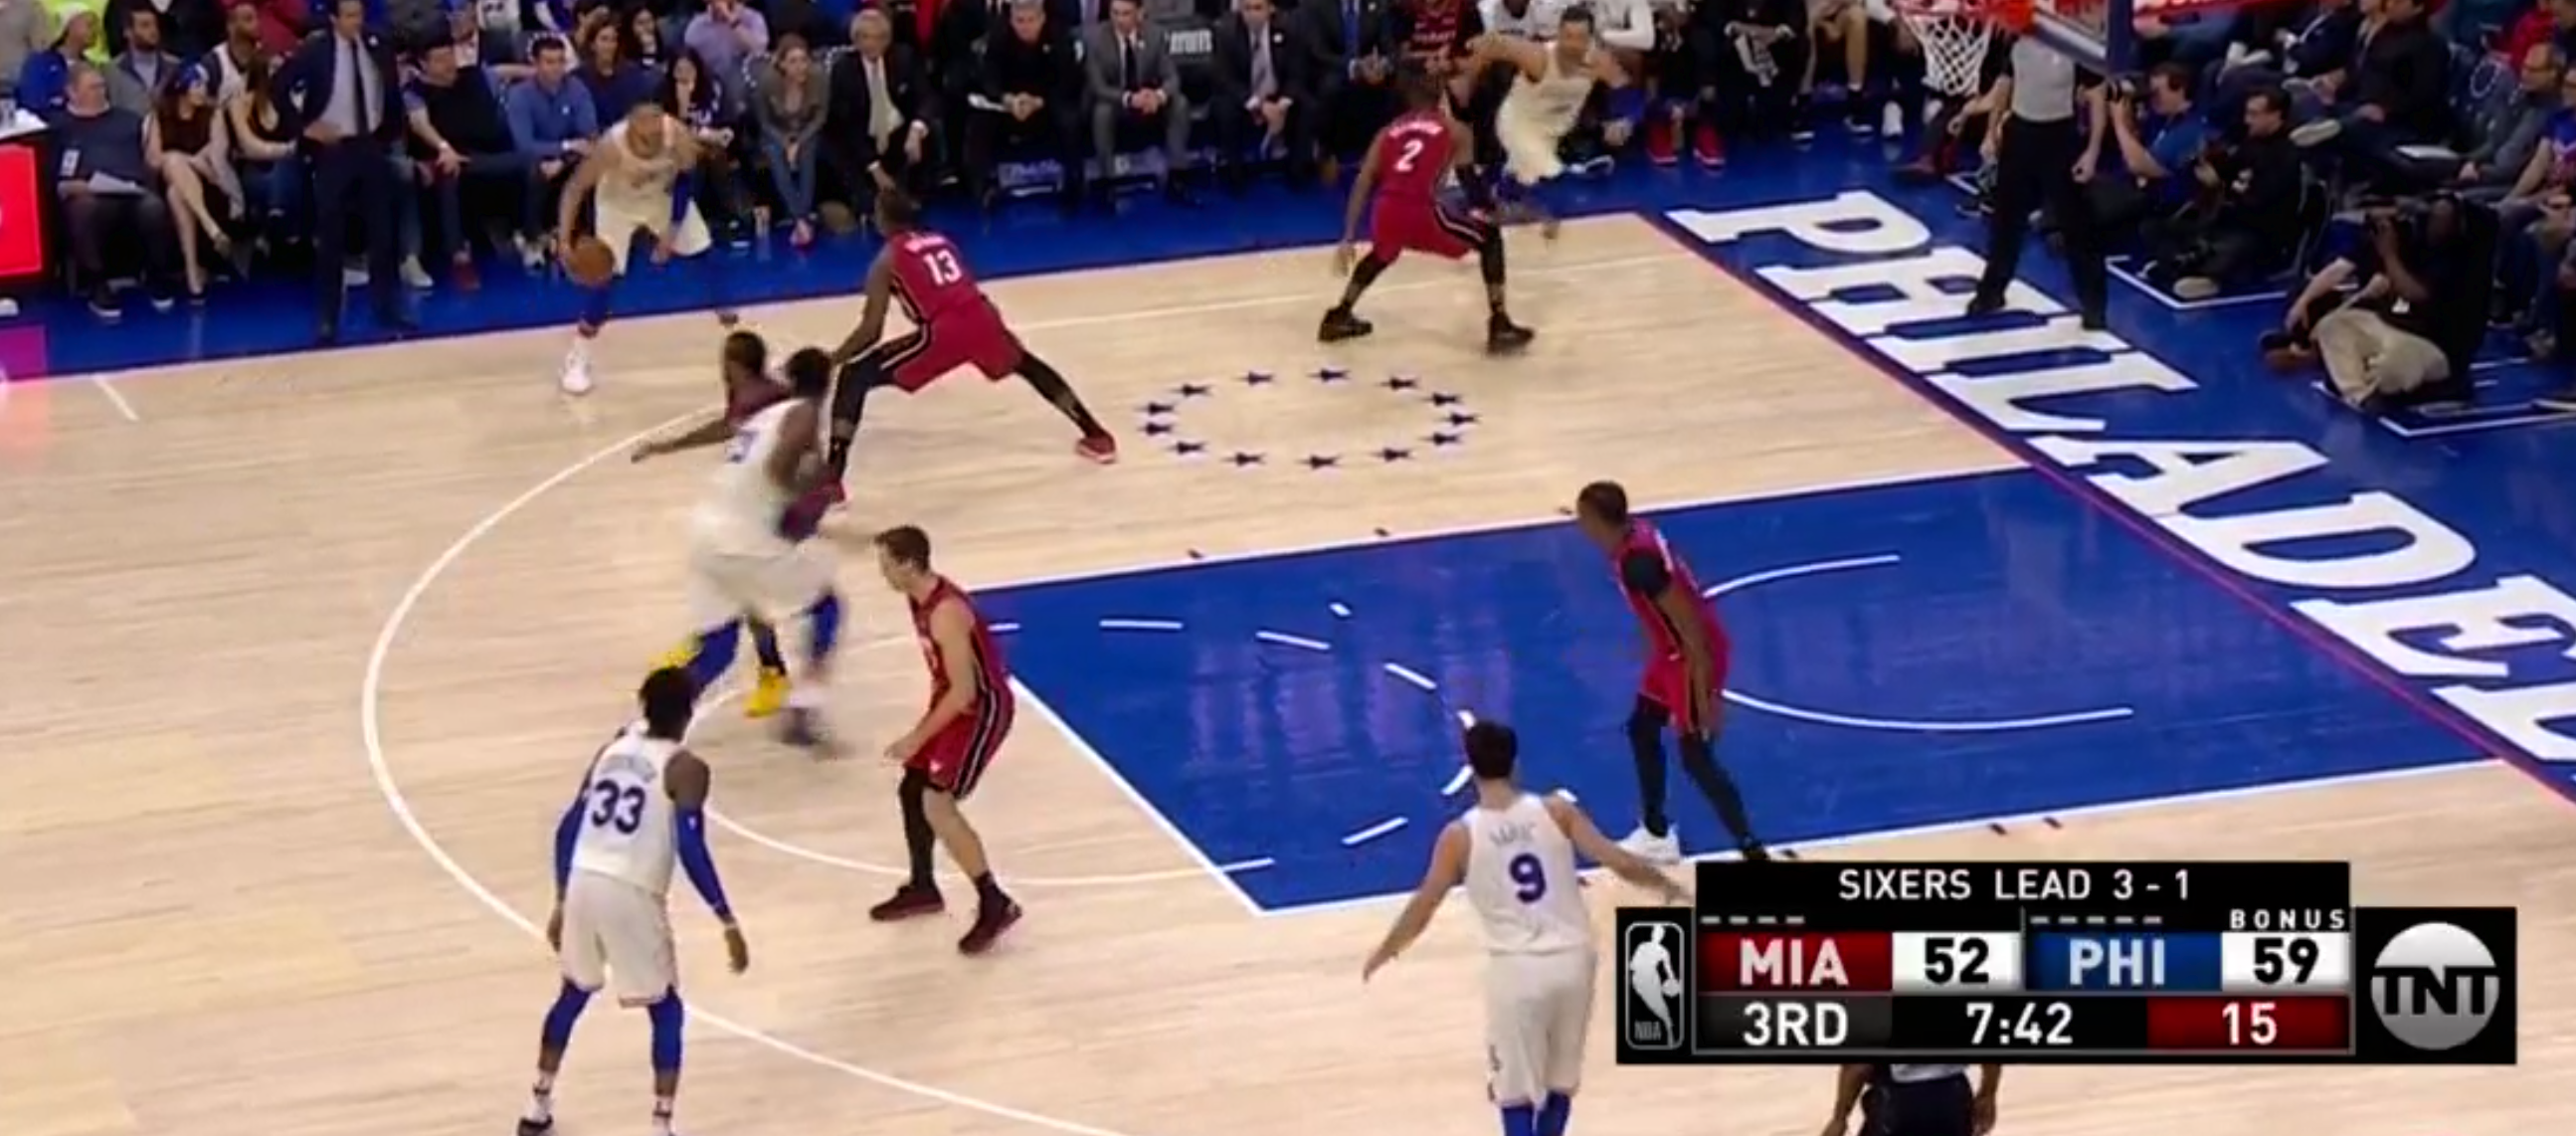basketball: (556, 228, 620, 291)
basketball player: (517, 659, 753, 1131), (1399, 719, 1616, 1136), (1578, 476, 1797, 857), (857, 512, 1034, 960), (825, 194, 1112, 457), (1333, 76, 1524, 377), (725, 352, 860, 769), (1512, 1, 1598, 236)
referee: (1979, 12, 2117, 321)
